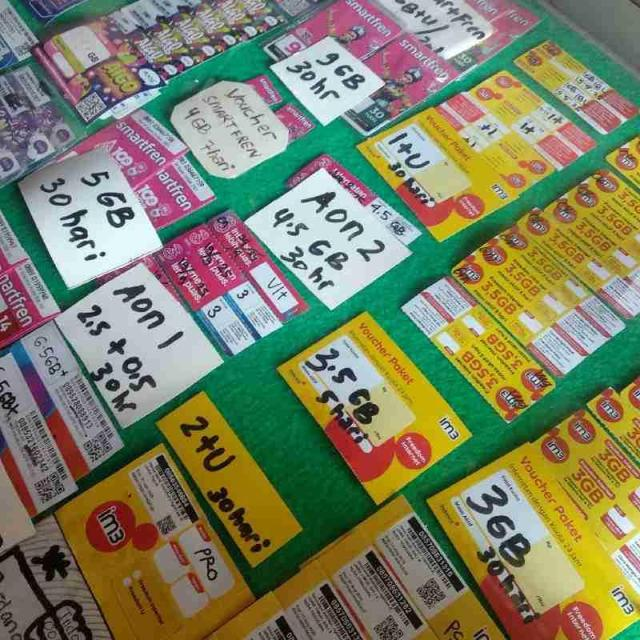Axis: (3, 0, 258, 122)
Indosat-3: (157, 213, 302, 327)
im3: (436, 377, 637, 639), (60, 450, 262, 640), (278, 315, 481, 504), (482, 139, 636, 361), (386, 69, 586, 230), (272, 505, 495, 640), (414, 265, 559, 415), (528, 37, 639, 131)
smartfren: (266, 0, 459, 121), (37, 116, 232, 234), (270, 159, 429, 256), (0, 222, 66, 349)
